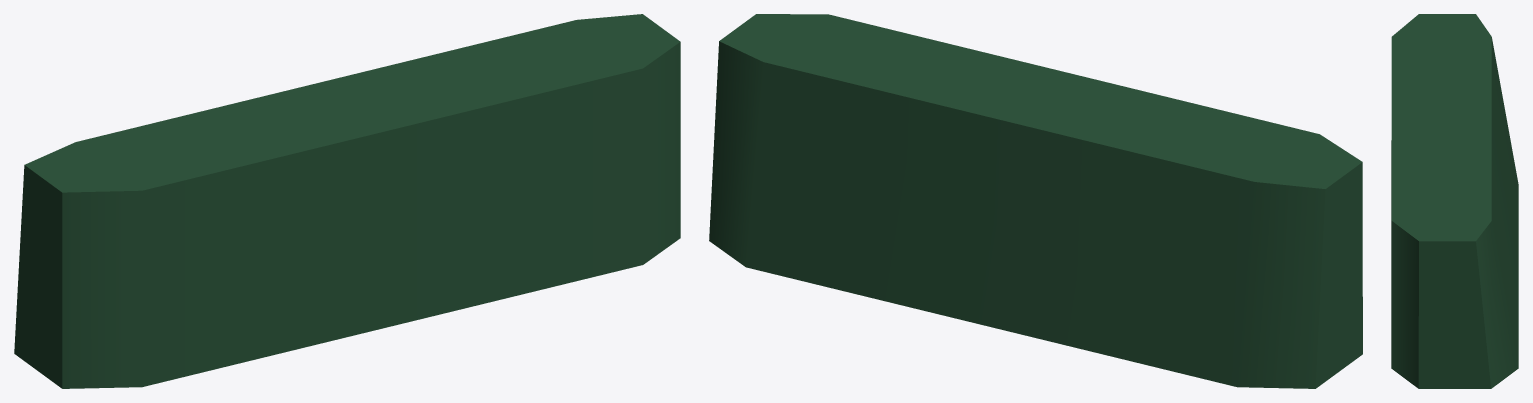
Rendered from wall2.fbx.
The picture shows the model from 3 angles, left to right: view 1: azimuth 30°, elevation 25°; view 2: azimuth 150°, elevation 25°; view 3: azimuth 270°, elevation 25°; orthographic projection. The views are drawn at different scales.
Parts seen in each view (by area): view 1: wall2; view 2: wall2; view 3: wall2.
Boxes of the visible parts, x1=… form: wall2: x1=14, y1=14, x2=680, y2=388; wall2: x1=709, y1=14, x2=1362, y2=388; wall2: x1=1391, y1=14, x2=1518, y2=388.
Bounding box in the file's own units: 256 × 77.57 × 60.51.
